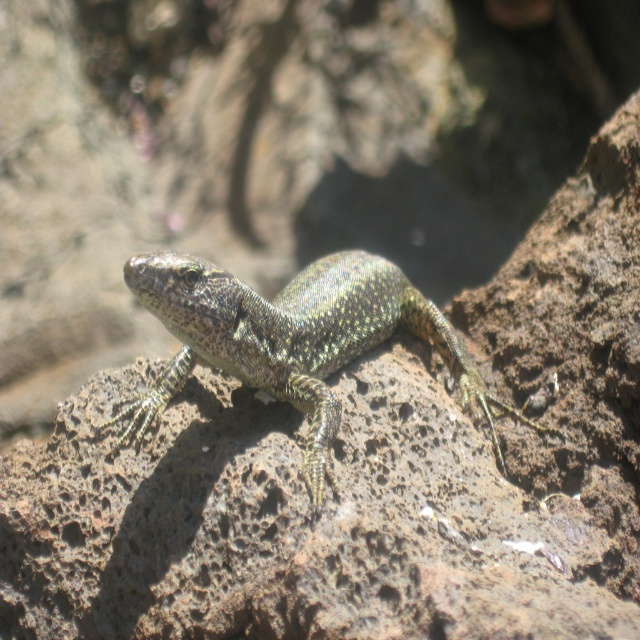Lizard: (118, 250, 526, 509)
